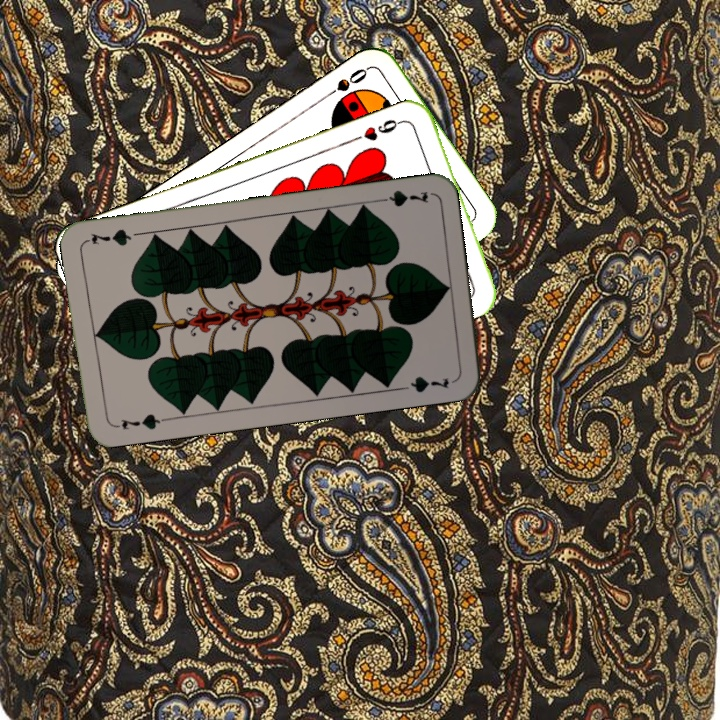G7: (372, 186, 431, 210), (109, 410, 169, 433)
H9: (359, 115, 407, 144)
SO: (319, 64, 371, 103)
